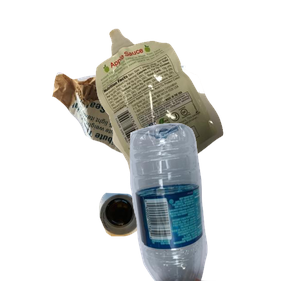cardboard: (50, 62, 228, 226)
glass: (96, 190, 230, 300)
plastic: (127, 120, 300, 300)
trash: (93, 26, 300, 200)
